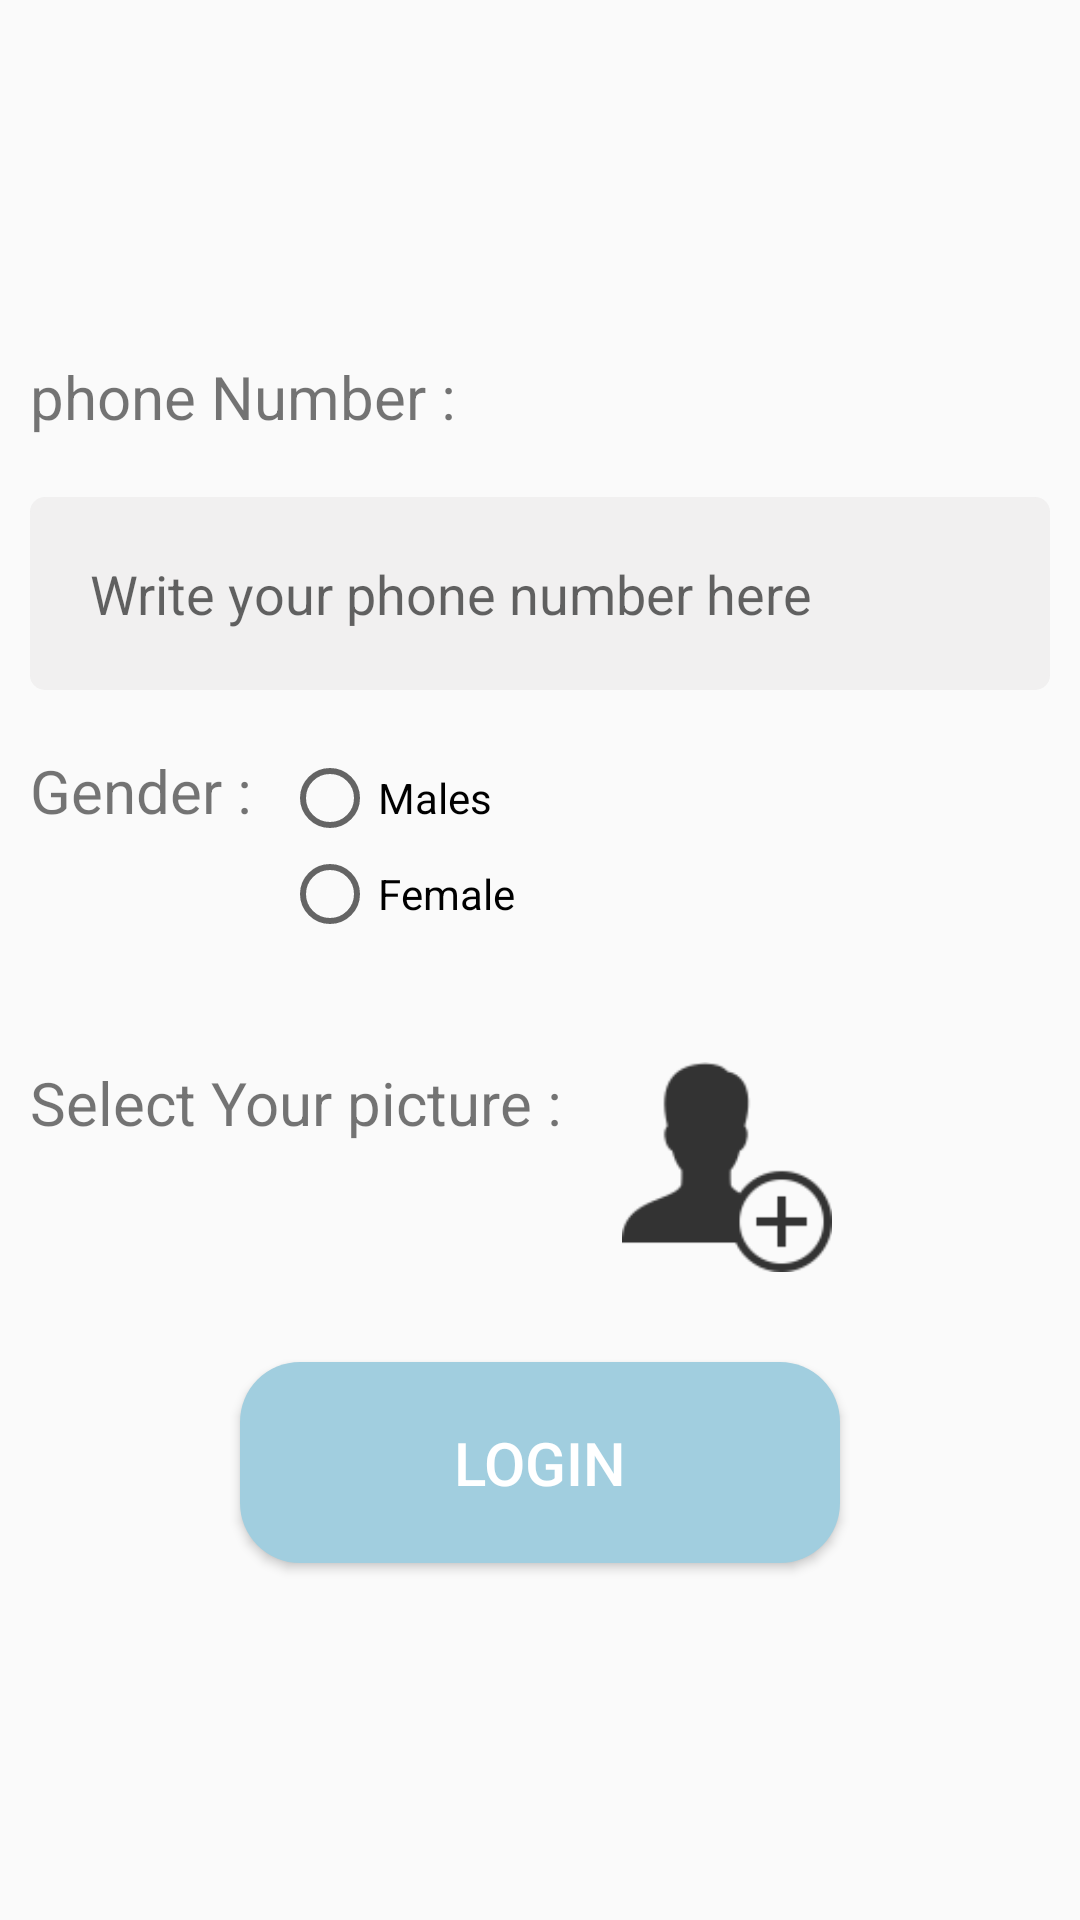

Where icons sit on this 1080 x 1920 app screen, as (x1=x1, y1=y1, x2=x2, y2=y2):
Edit Photo : (x1=622, y1=1062, x2=832, y2=1272)
